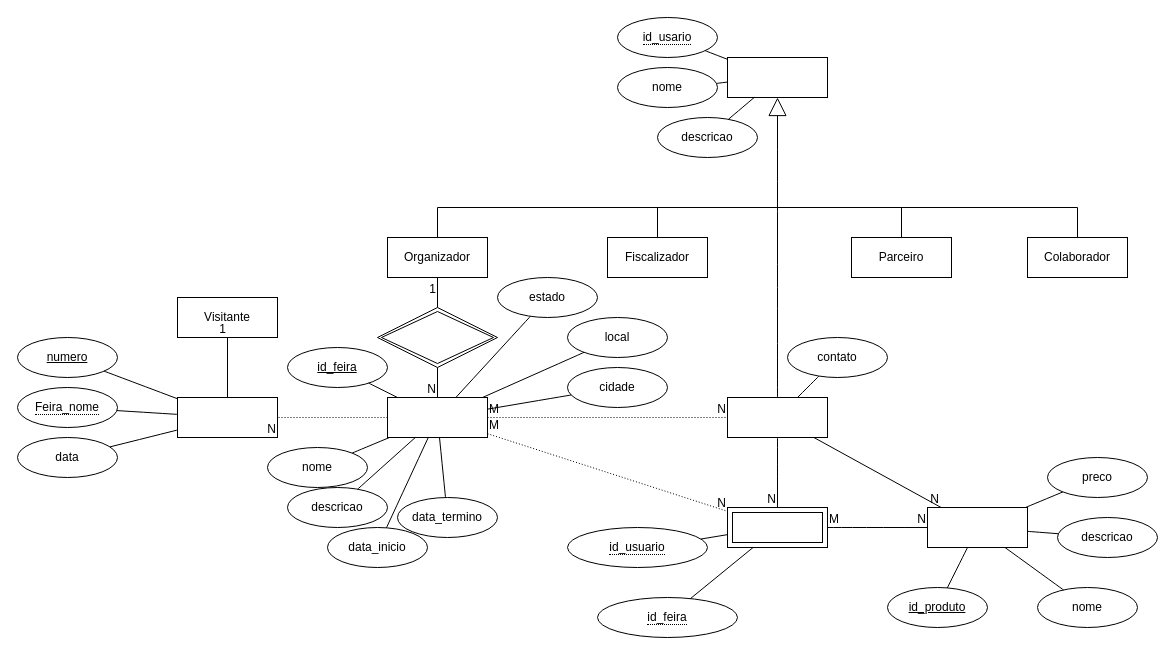
This 1175x655 diagram has some shape labels left out. The box of each missing label's shape, as (x1, y1, x2, y2) in pixels:
Cria: (376, 306, 498, 368)
Expositor: (726, 396, 828, 438)
Feira: (386, 396, 488, 438)
Ingresso: (176, 396, 278, 438)
Lista_produto: (726, 506, 828, 548)
Produto: (926, 506, 1028, 548)
Usuário: (726, 56, 828, 98)
